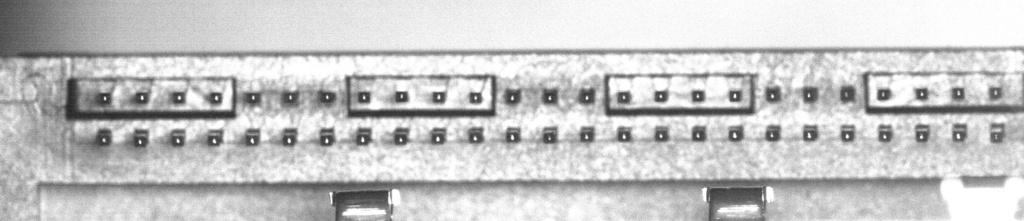pin_ok: (877, 124, 894, 142), (989, 123, 1005, 142), (133, 128, 149, 147), (355, 128, 372, 145), (504, 88, 522, 104), (96, 128, 112, 146), (952, 123, 968, 141), (840, 85, 856, 102), (578, 87, 595, 103), (542, 87, 558, 104), (319, 128, 335, 145), (170, 129, 186, 146), (393, 127, 409, 144), (244, 128, 260, 145), (914, 125, 930, 142), (281, 128, 297, 145), (207, 129, 223, 146), (802, 86, 818, 102), (765, 85, 781, 101), (765, 125, 781, 141), (616, 126, 632, 142), (579, 126, 595, 142), (840, 125, 856, 141), (468, 127, 484, 143), (691, 125, 707, 141), (430, 128, 446, 144), (802, 125, 818, 141), (319, 89, 336, 104), (542, 127, 557, 143), (505, 127, 521, 142), (727, 126, 743, 141), (282, 90, 299, 104), (244, 91, 261, 105), (988, 85, 1003, 100), (654, 126, 669, 141), (914, 86, 929, 100), (876, 87, 891, 101), (616, 90, 631, 104), (951, 87, 966, 100), (728, 89, 743, 102), (134, 91, 149, 104), (208, 91, 223, 104), (654, 89, 668, 102), (172, 91, 186, 104), (691, 89, 705, 102), (357, 90, 371, 103), (395, 89, 408, 102), (469, 91, 482, 104), (97, 92, 111, 104), (432, 91, 445, 103)
